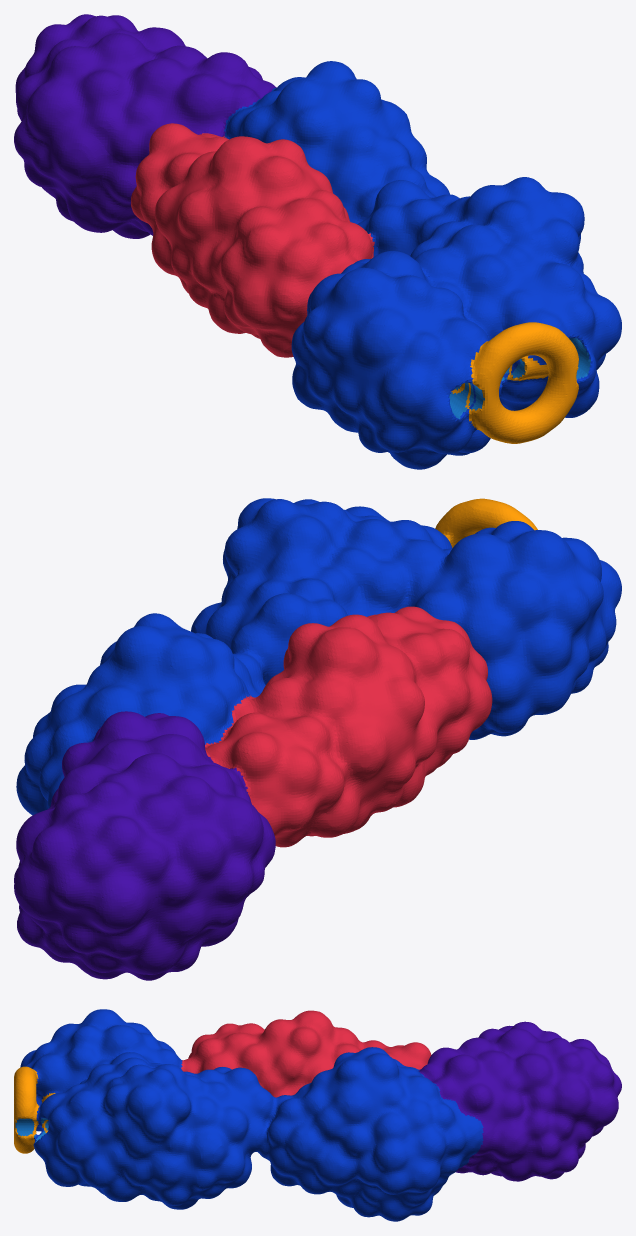
Rendered from IgG_part4_arm_right.obj.
3 views of the same model, one above another, from view 1: azimuth 30°, elevation 25°; view 2: azimuth 150°, elevation 25°; view 3: azimuth 270°, elevation 25° (orthographic). The views are drawn at different scales.
Visible parts, largest first — view 1: IgG_part4_arm_right; view 2: IgG_part4_arm_right; view 3: IgG_part4_arm_right.
Boxes of the visible parts, box(x1,y1,x2,y2) form: IgG_part4_arm_right: box(14, 14, 621, 469); IgG_part4_arm_right: box(14, 498, 621, 980); IgG_part4_arm_right: box(14, 1009, 621, 1221).
Size of the model in its own units: 39.17 by 28.52 by 97.19.
